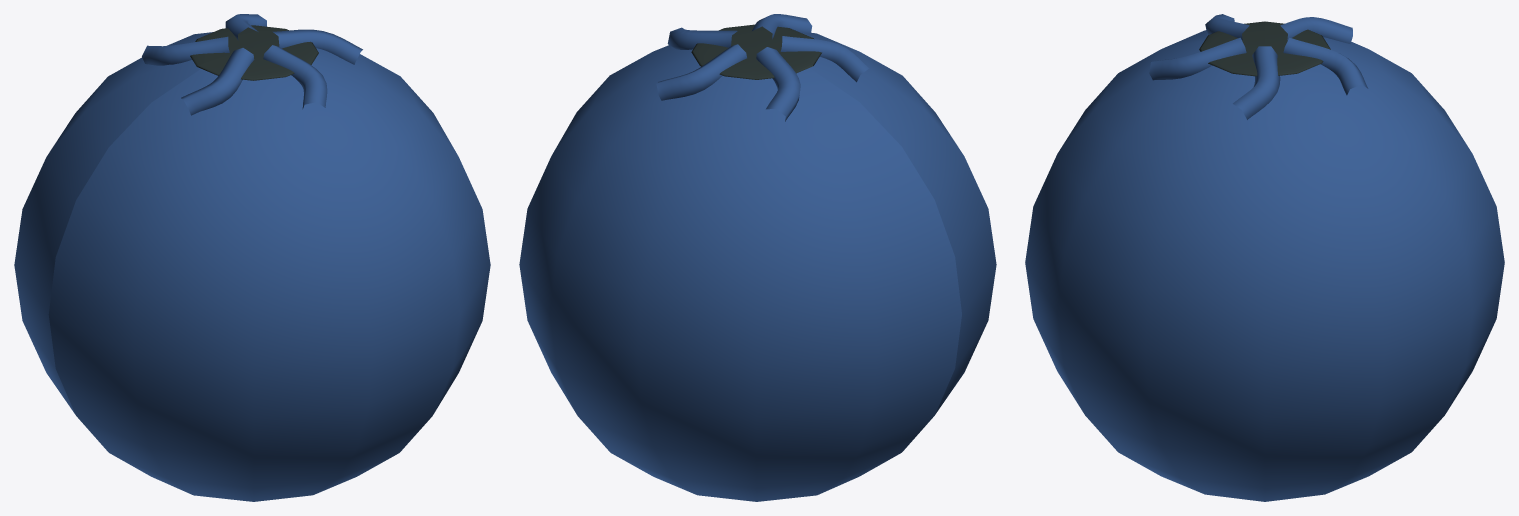
Rendered from berry-light.glb.
3 views of the same model, side by side, from view 1: azimuth 30°, elevation 25°; view 2: azimuth 150°, elevation 25°; view 3: azimuth 270°, elevation 25° (orthographic).
Parts seen in each view (by area): view 1: blue, dark; view 2: blue, dark; view 3: blue, dark.
Part boxes in pixels (x1=…): blue: x1=14, y1=14, x2=490, y2=501; dark: x1=190, y1=25, x2=318, y2=80; blue: x1=519, y1=14, x2=996, y2=501; dark: x1=691, y1=24, x2=821, y2=79; blue: x1=1025, y1=14, x2=1504, y2=501; dark: x1=1199, y1=21, x2=1330, y2=76.
Size of the model in its own units: 0.836 by 0.8575 by 0.836.
